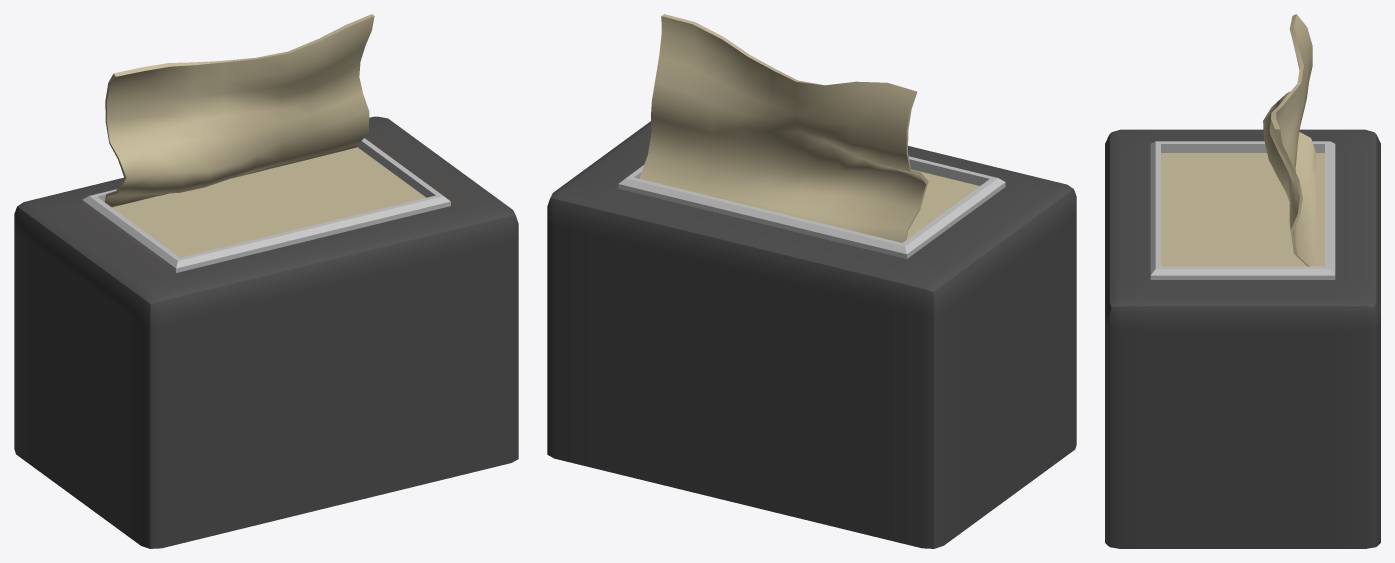
The model's file is napkins.fbx.
The picture shows the model from 3 angles, left to right: view 1: azimuth 30°, elevation 25°; view 2: azimuth 150°, elevation 25°; view 3: azimuth 270°, elevation 25°; orthographic projection. The views are drawn at different scales.
Visible parts, largest first — view 1: napkinBox, Napkin; view 2: napkinBox, Napkin; view 3: napkinBox, Napkin.
Part boxes in pixels (x1,y1,x2,y2): napkinBox: [14, 116, 518, 548]; Napkin: [104, 14, 374, 207]; napkinBox: [547, 121, 1076, 548]; Napkin: [639, 14, 928, 242]; napkinBox: [1105, 129, 1380, 548]; Napkin: [1263, 14, 1315, 266].
Bounding box in the file's own units: 13.85 × 13.95 × 8.96.
